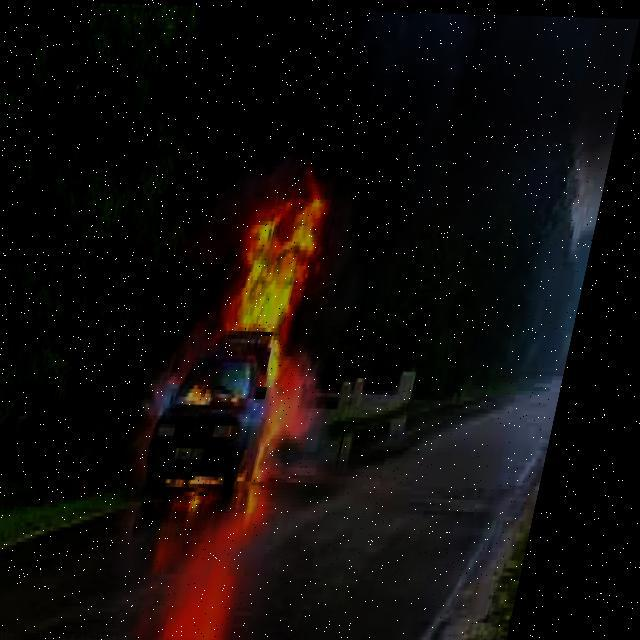Fire: (200, 191, 348, 327), (245, 330, 336, 508), (166, 457, 250, 506), (189, 368, 239, 416)
